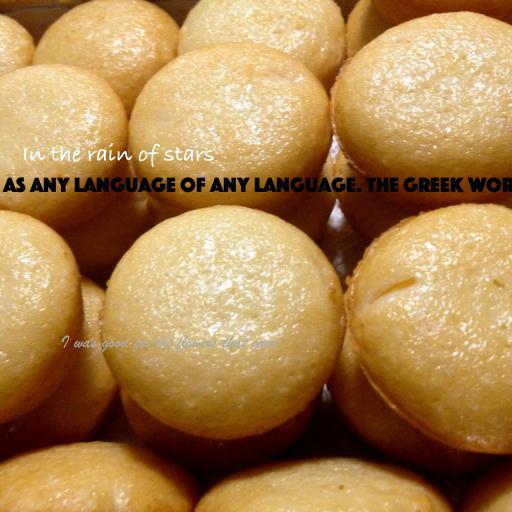Bradley Hand: (21, 143, 215, 168)
Brush Script MT: (60, 335, 278, 353)
Phosphate: (0, 177, 512, 193)
